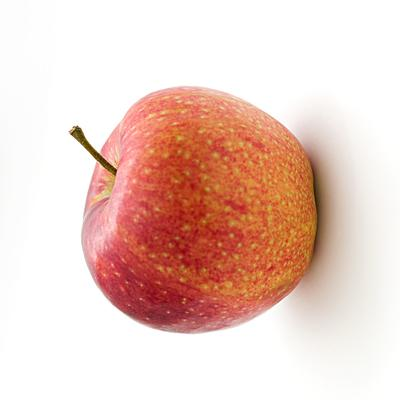apple: (0, 0, 400, 400)
